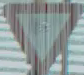Give way: (2, 2, 79, 67)
